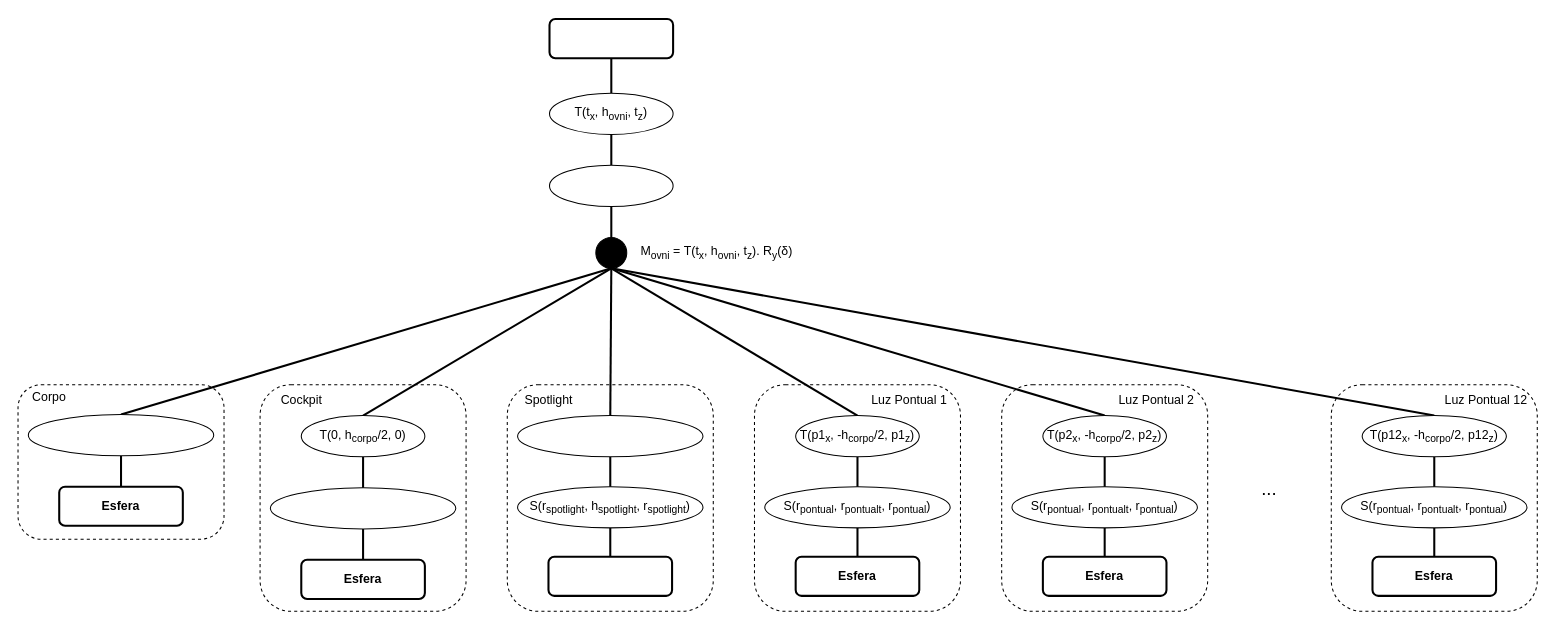
This 1555x629 diagram has some shape labels left out. Each missing label, with the centre of its shape:
"Cilindro" belongs at (610,575).
"OVNI" belongs at (611,38).
"R y (δ)" belongs at (610,185).
"S(r cockpit , r cockpit , r cockpit )" belongs at (362,508).
"S(r corpo , h corpo , r corpo )" belongs at (120,435).
"T(0, -h corpo /2 -h spotlight /2, 0)" belongs at (610,436).
